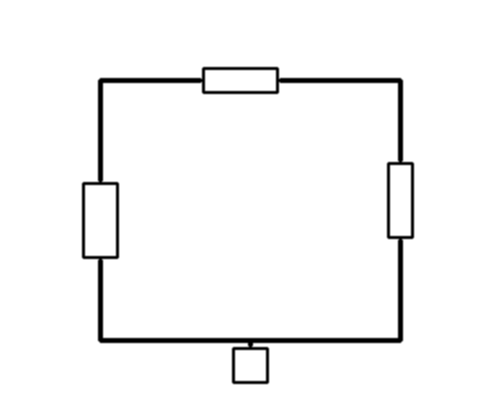gnd: (230, 345, 270, 385)
resistor: (200, 65, 280, 95), (385, 160, 415, 240)
text: (190, 30, 290, 60)
voltage.dc: (80, 180, 120, 260)
